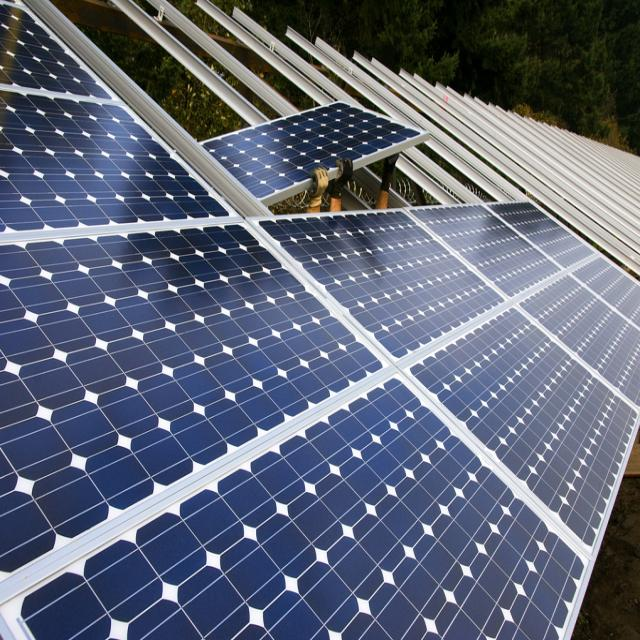Clean: (0, 0, 640, 640), (203, 99, 425, 200)
